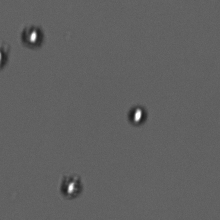Living Cell: (60, 171, 82, 200), (22, 25, 44, 49), (127, 104, 148, 127)
